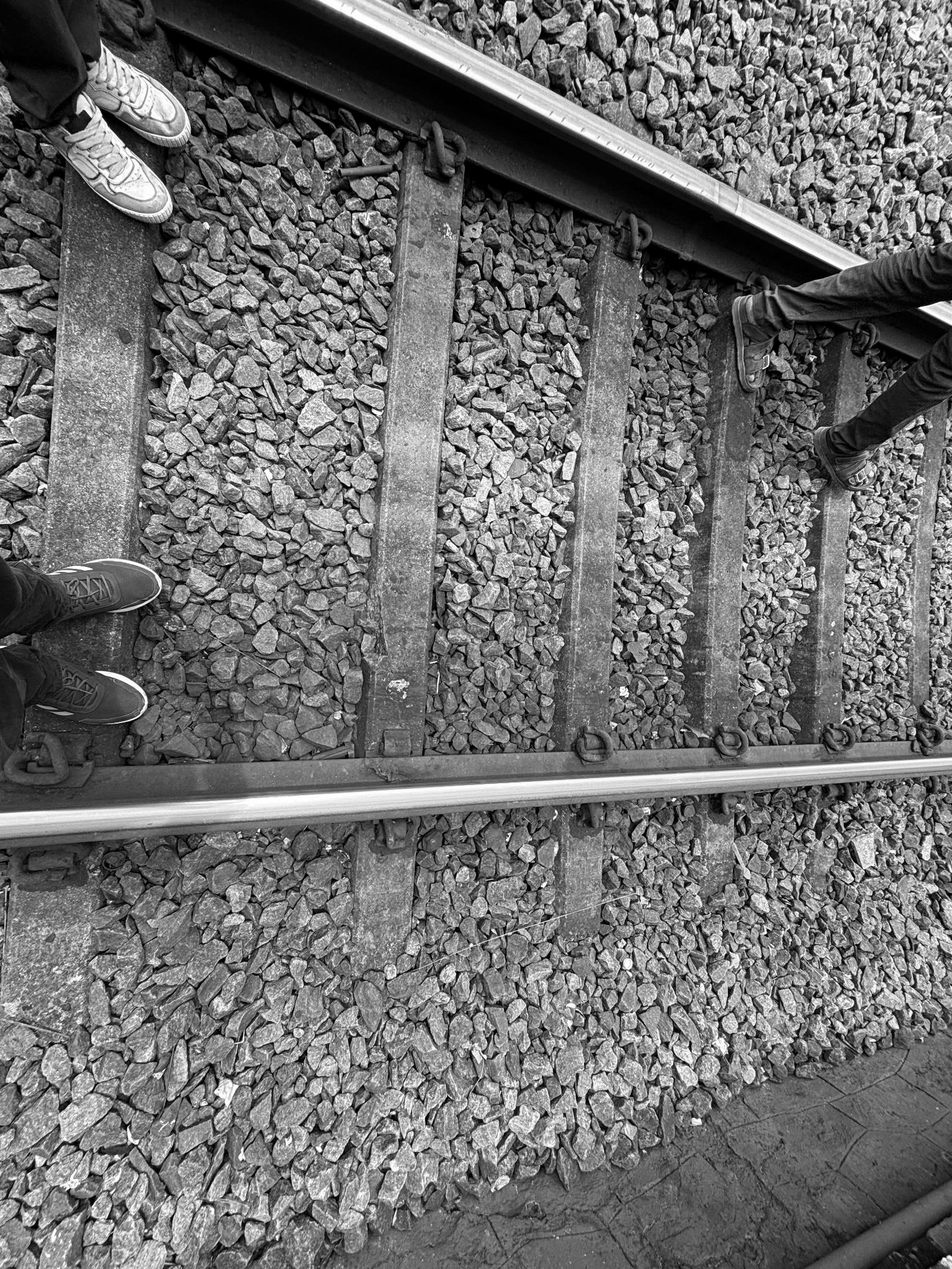cracks under rail seat: (356, 577, 395, 679)
